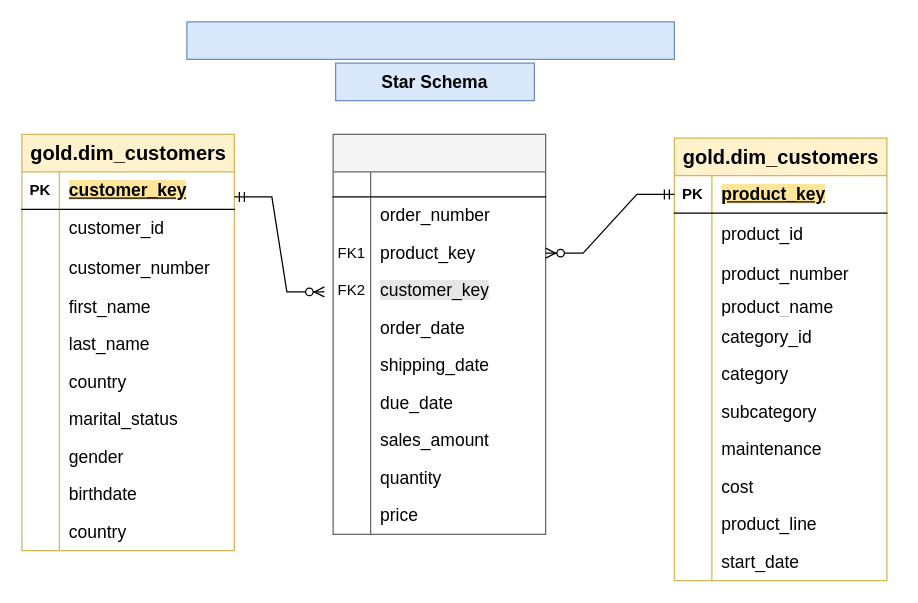
Some shapes in this 918 by 603 pixel diagram are drawn without their labels. Each missing label, with the box of its shape:
gold.fact_sales: (332, 133, 546, 534)
Sales Data Mart: (186, 21, 674, 59)
